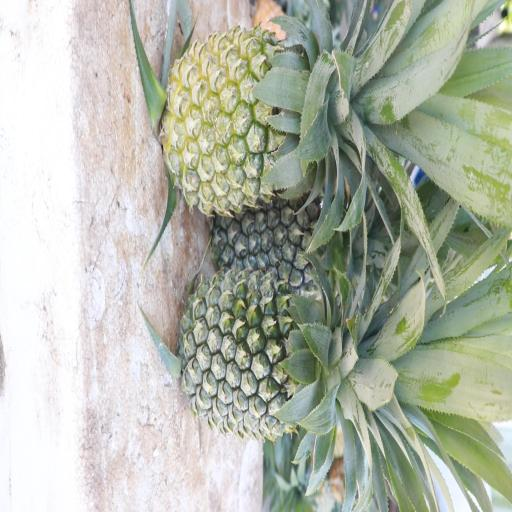Pineapple - v8 v1: (169, 26, 349, 212)
